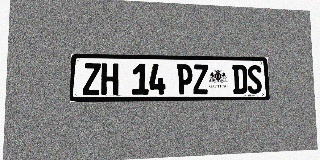1: (132, 64, 149, 95)
4: (149, 64, 165, 95)
D: (232, 65, 247, 94)
H: (101, 63, 119, 95)
P: (177, 64, 193, 94)
S: (247, 65, 262, 94)
Z: (83, 63, 101, 95), (193, 64, 209, 94)
